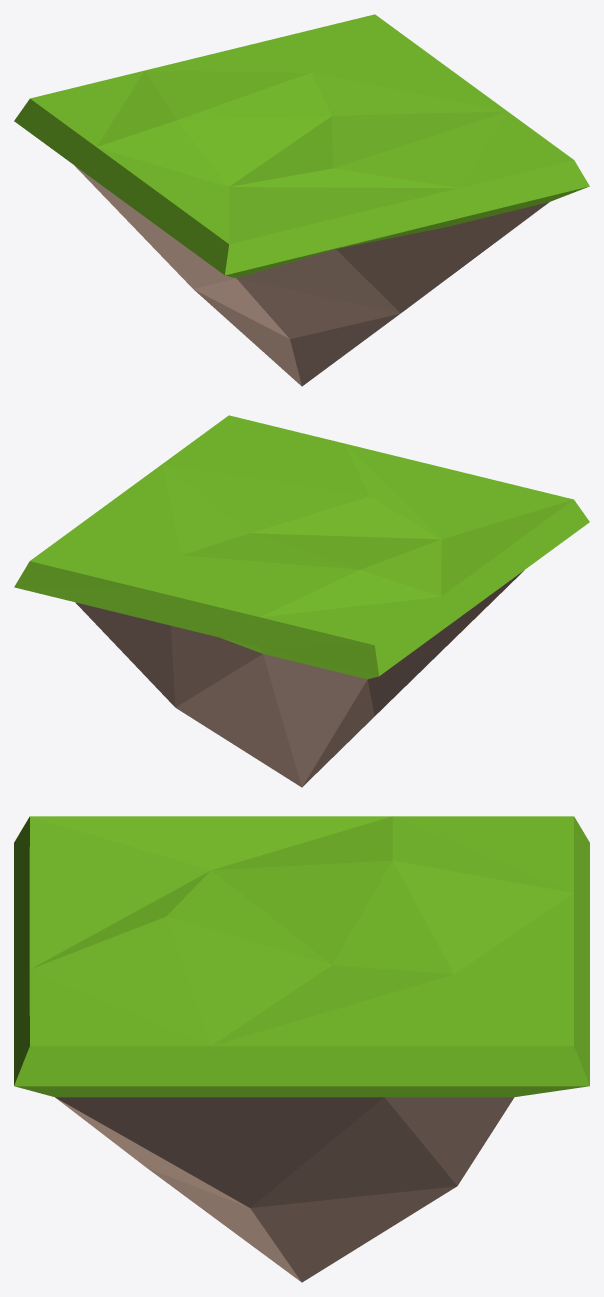
The model's file is plane_grassOLD.FBX.
3 renders of one model, top to bottom at view 1: azimuth 30°, elevation 25°; view 2: azimuth 150°, elevation 25°; view 3: azimuth 270°, elevation 25°, orthographic. The views are drawn at different scales.
Parts seen in each view (by area): view 1: plane; view 2: plane; view 3: plane.
Part boxes in pixels (bbox=[...]): plane: bbox=[14, 14, 589, 386]; plane: bbox=[14, 415, 589, 787]; plane: bbox=[14, 816, 589, 1282].
Bounding box in the file's own units: 32 × 22.15 × 32.
